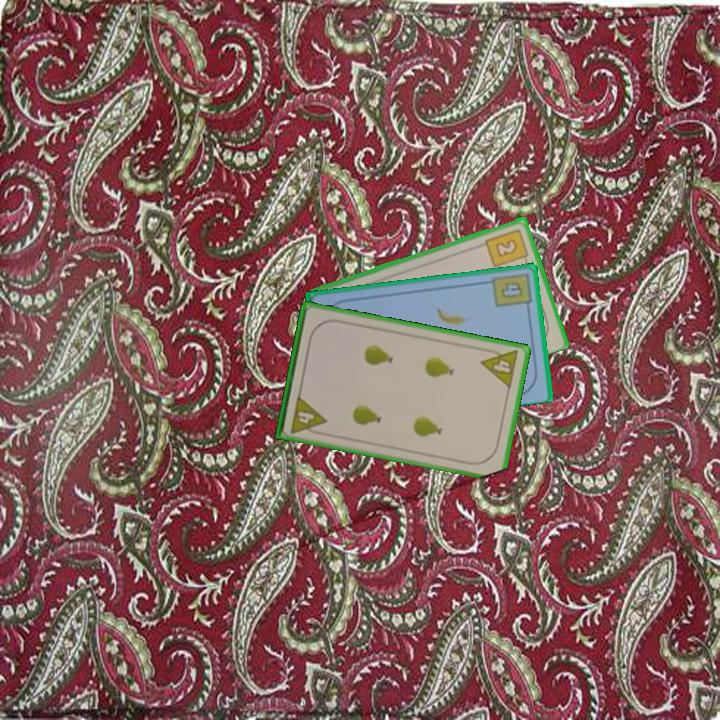2b: (482, 225, 531, 270)
4b: (489, 269, 534, 313)
4p: (478, 344, 521, 391), (287, 392, 329, 438)
